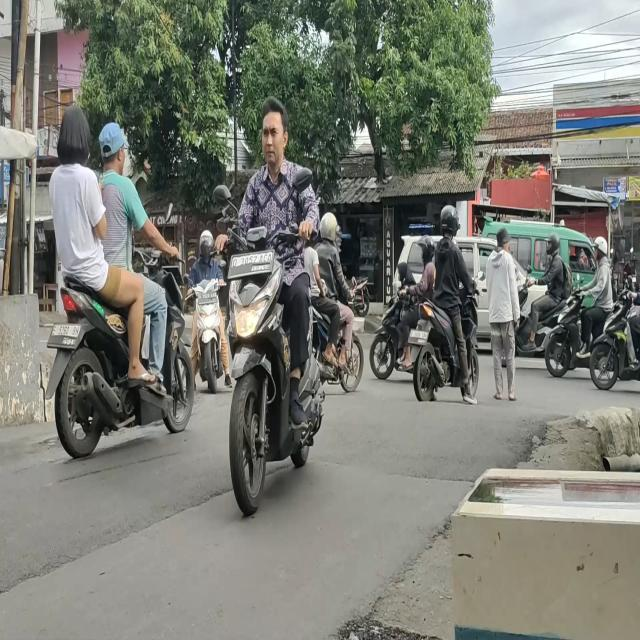helmet: (440, 206, 460, 236), (418, 230, 435, 264), (322, 210, 338, 242), (542, 235, 561, 258), (199, 231, 213, 257), (594, 239, 608, 262)
no-helmet: (58, 105, 90, 160), (257, 107, 288, 163), (97, 128, 126, 173), (396, 260, 411, 284)
